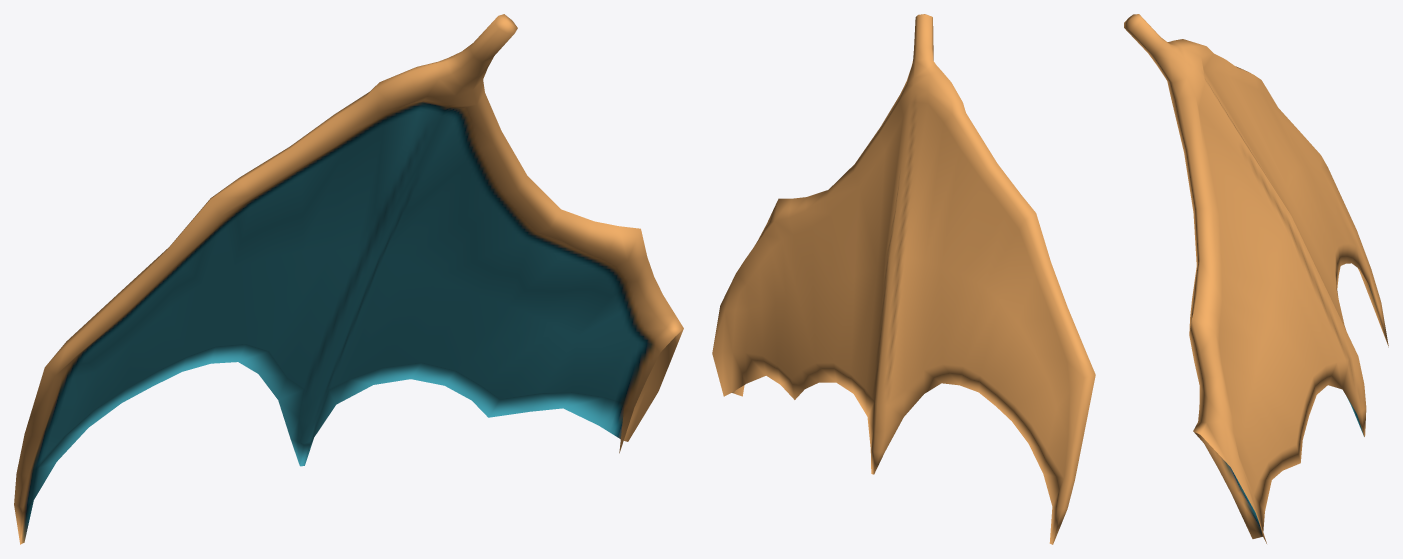
Rendered from ala_der.obj.
3 renders of one model, left to right at view 1: azimuth 30°, elevation 25°; view 2: azimuth 150°, elevation 25°; view 3: azimuth 270°, elevation 25°, orthographic. The views are drawn at different scales.
Parts seen in each view (by area): view 1: ala_der; view 2: ala_der; view 3: ala_der.
Part boxes in pixels (x1=…): ala_der: x1=14, y1=14, x2=683, y2=544; ala_der: x1=712, y1=14, x2=1095, y2=544; ala_der: x1=1124, y1=14, x2=1388, y2=543.
Bounding box in the file's own units: 8.51 × 7.8 × 4.
